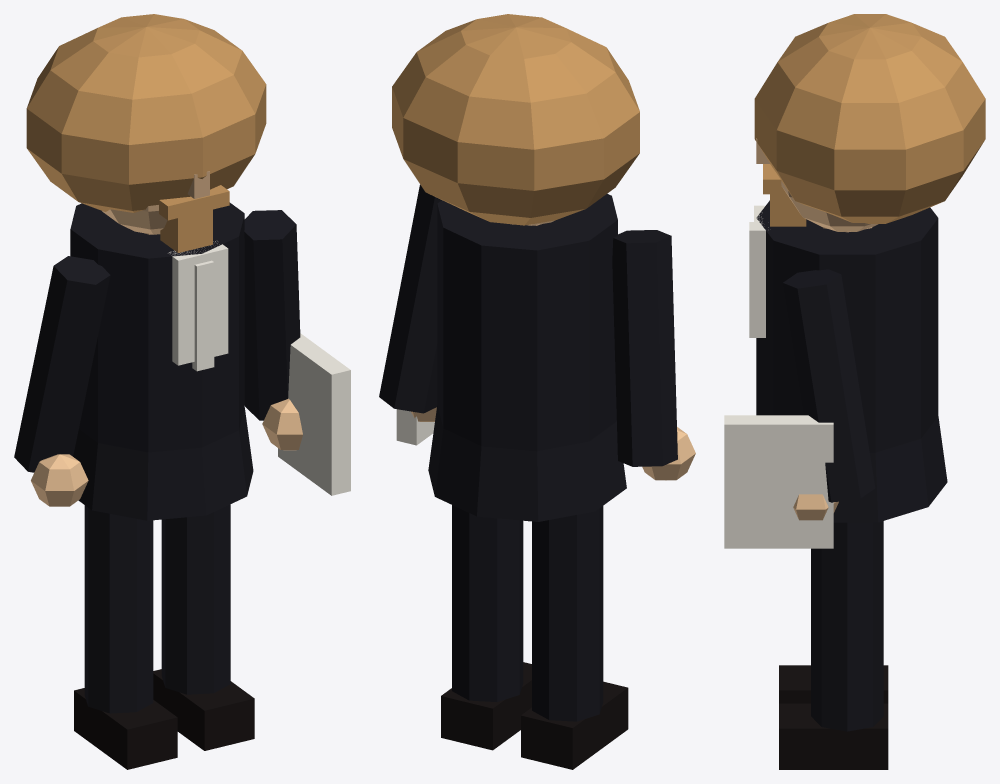
The model's file is postac_paderewski.glb.
3 views of the same model, side by side, from view 1: azimuth 30°, elevation 25°; view 2: azimuth 150°, elevation 25°; view 3: azimuth 270°, elevation 25° (orthographic). The views are drawn at different scales.
Parts seen in each view (by area): view 1: cialo, reka_p, noga_l, noga_p, reka_l; view 2: cialo, noga_l, noga_p, reka_l, reka_p; view 3: cialo, reka_p, noga_p, noga_l.
Part boxes in pixels (box(x1,y1,x2,y2)): cialo: box(26, 14, 266, 520); reka_p: box(244, 210, 350, 495); noga_l: box(74, 505, 177, 769); noga_p: box(153, 504, 254, 750); reka_l: box(14, 256, 110, 506); cialo: box(392, 14, 639, 521); noga_l: box(521, 506, 628, 769); noga_p: box(441, 505, 531, 750); reka_l: box(612, 230, 695, 480); reka_p: box(379, 184, 441, 445); cialo: box(749, 14, 985, 522); reka_p: box(724, 269, 875, 548); noga_p: box(779, 521, 888, 769); noga_l: box(779, 665, 888, 703).
Size of the model in its own units: 0.7126 by 1.72 by 0.5735.
